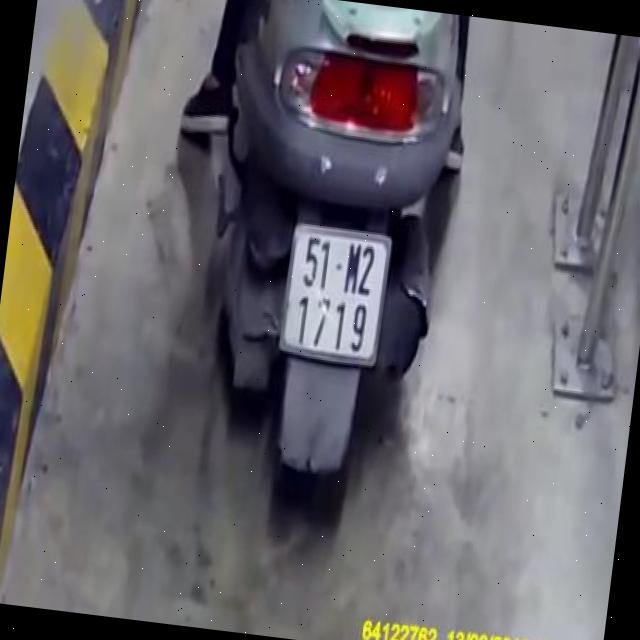license_plate: (278, 227, 389, 366)
